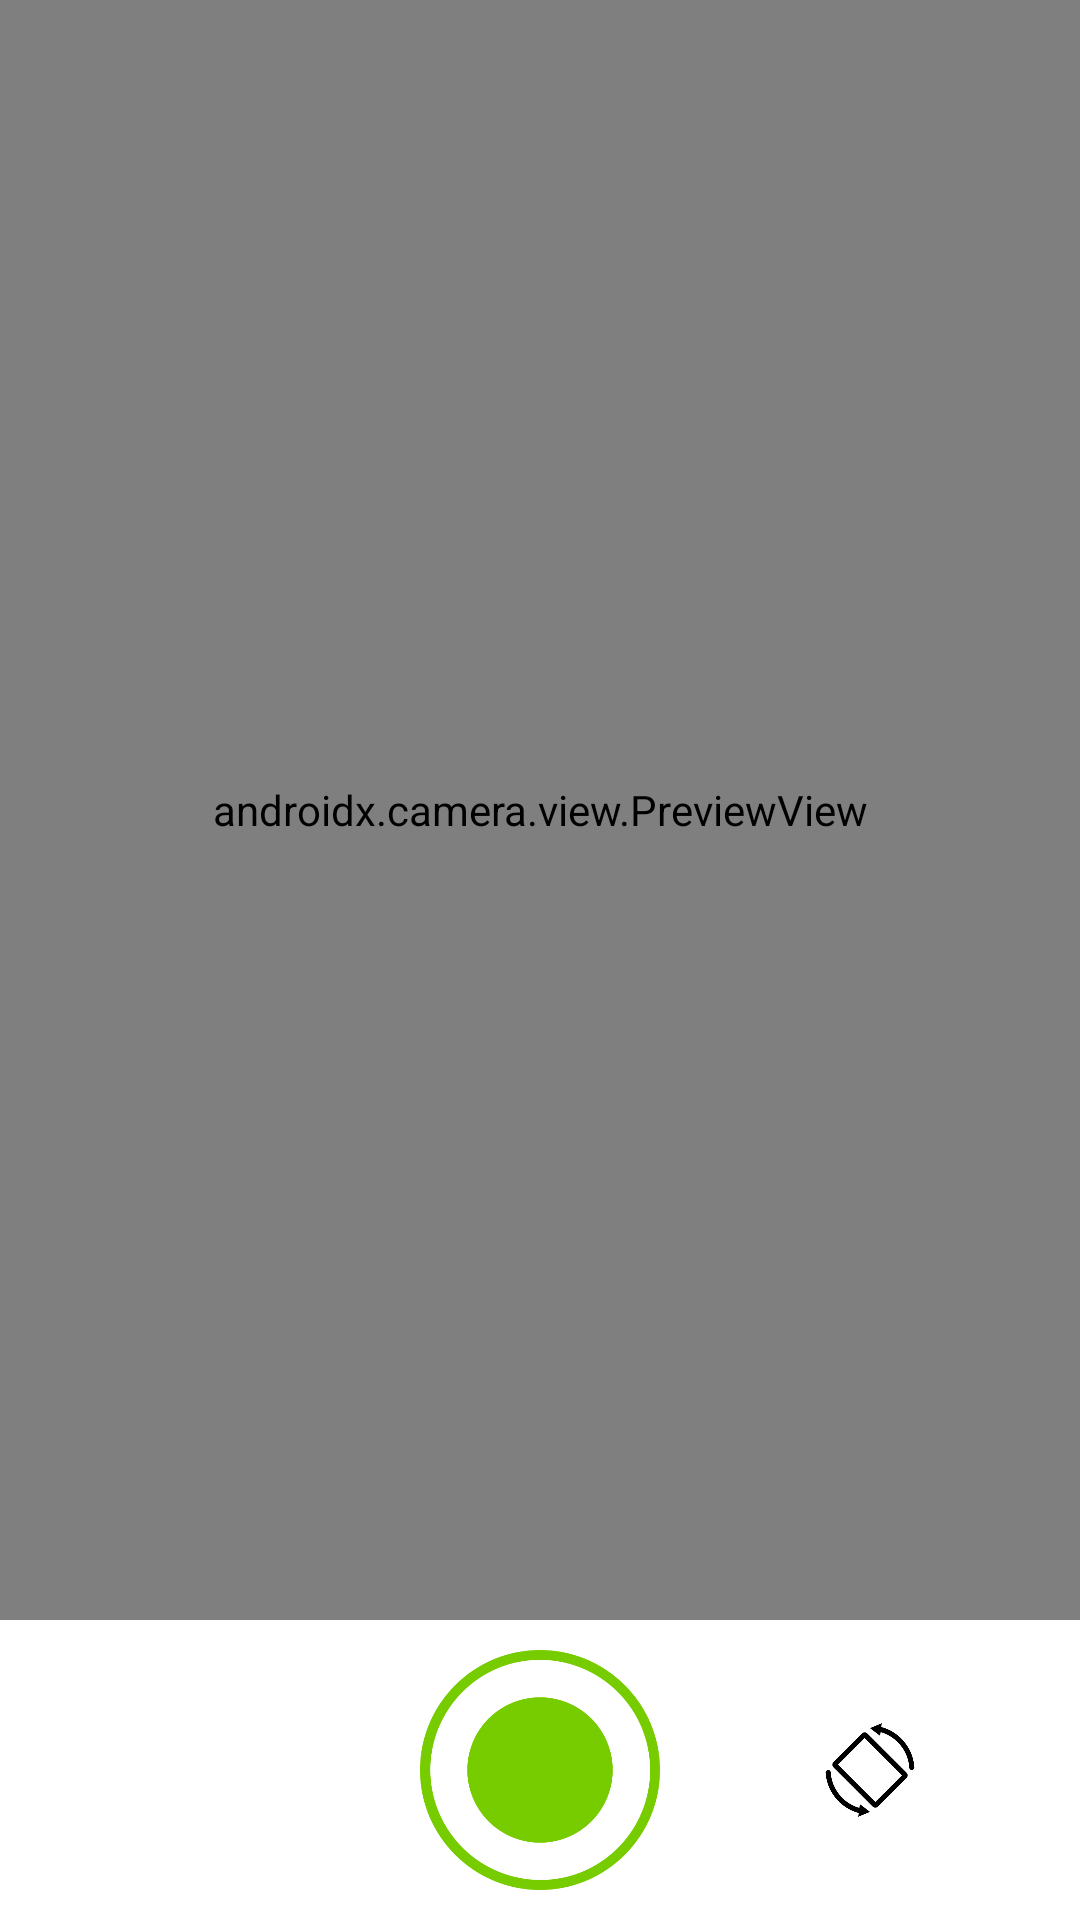

Screen size 1080 × 1920. Icon name, then its center in pixels as (x=x, y=y):
camera capture: (x=540, y=1770)
camera rotate: (x=870, y=1770)
